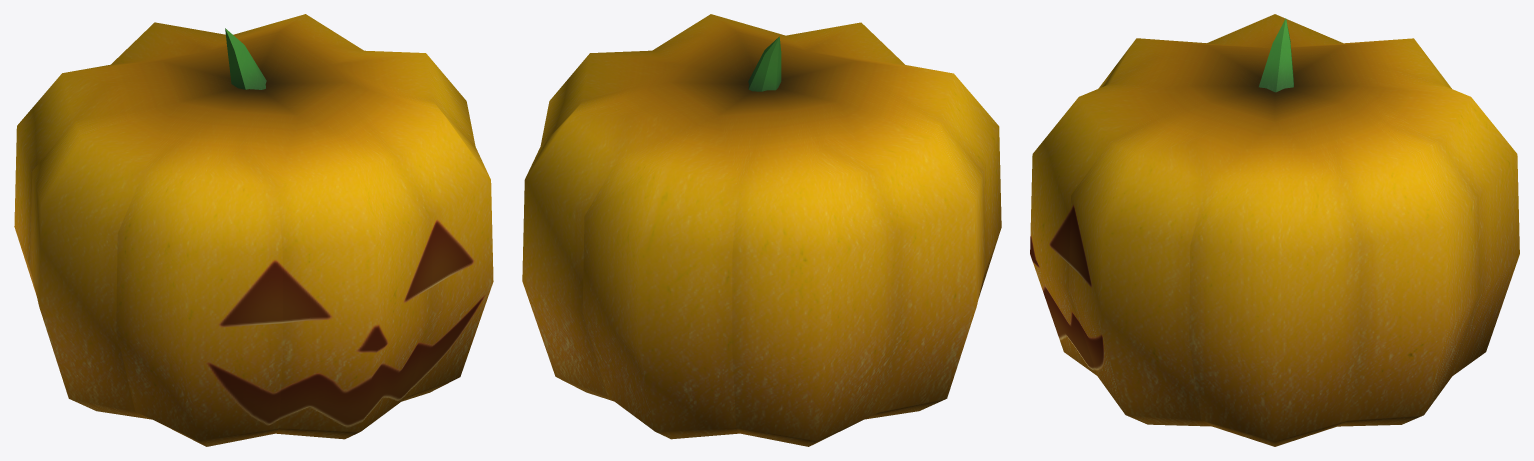
File: pumpkin.fbx
3 views of the same model, side by side, from view 1: azimuth 30°, elevation 25°; view 2: azimuth 150°, elevation 25°; view 3: azimuth 270°, elevation 25° (orthographic).
Parts seen in each view (by area): view 1: mausu_panpkin_03:pSphere2; view 2: mausu_panpkin_03:pSphere2; view 3: mausu_panpkin_03:pSphere2.
Boxes of the visible parts, x1,y1,x2,y2 form: mausu_panpkin_03:pSphere2: (14, 14, 493, 446); mausu_panpkin_03:pSphere2: (522, 14, 1001, 446); mausu_panpkin_03:pSphere2: (1030, 14, 1519, 446).
Bounding box in the file's own units: 133 × 109 × 133.
